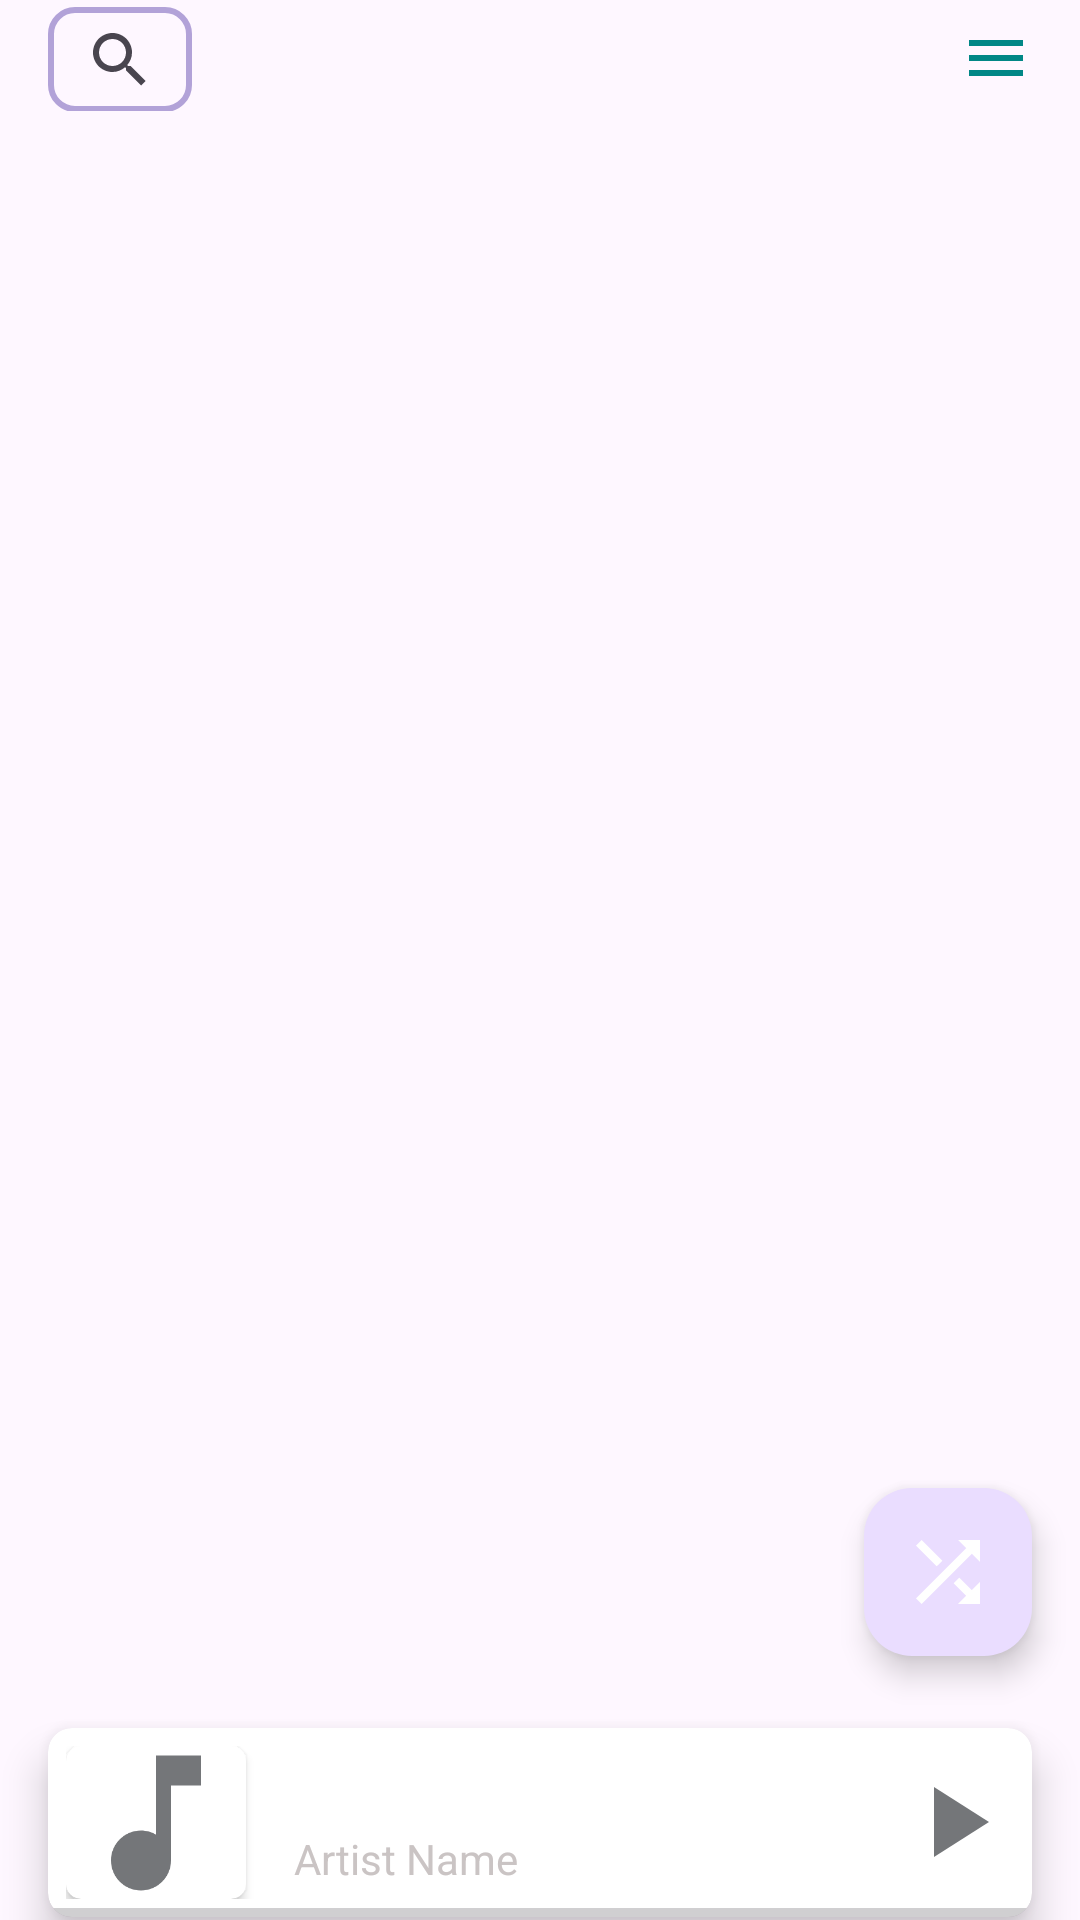

Named icons in this screenshot (1080 × 1920) and their bounding boxes, bbox=[x1, y1, x2, y2]:
music note: bbox=[66, 1755, 245, 1899]
play: bbox=[934, 1787, 989, 1857]
